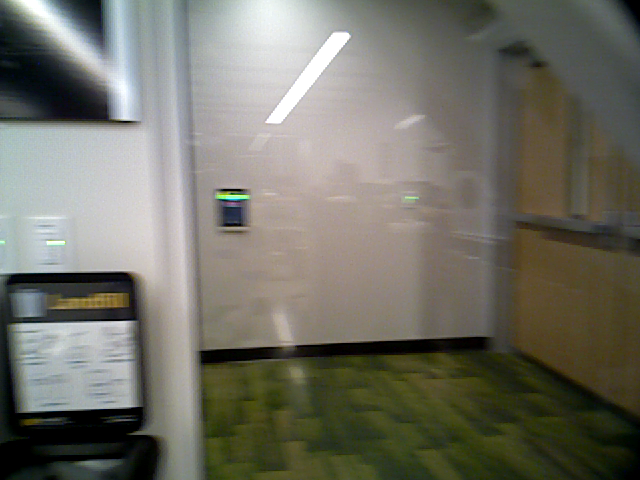painting1: (1, 1, 137, 120)
